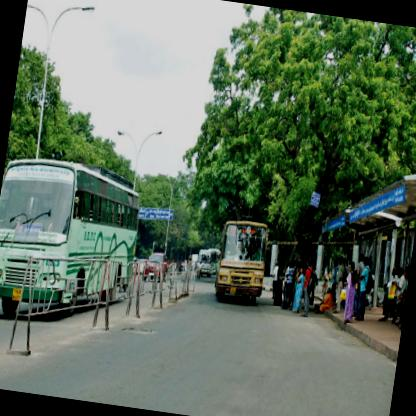bus: (0, 337, 101, 402)
